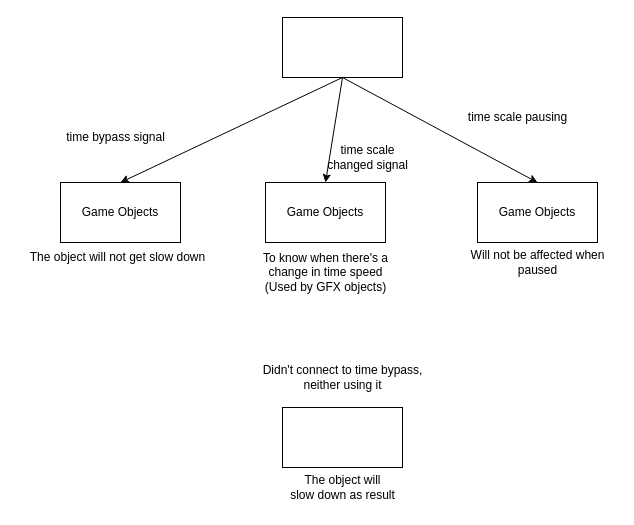
The diagram is 634 pixels wide and 525 high, and some of its shapes have lost their labels. Each missing label, with the centre of its shape:
"Game Object" belongs at (x=342, y=437).
"time_scaler" belongs at (x=342, y=47).
